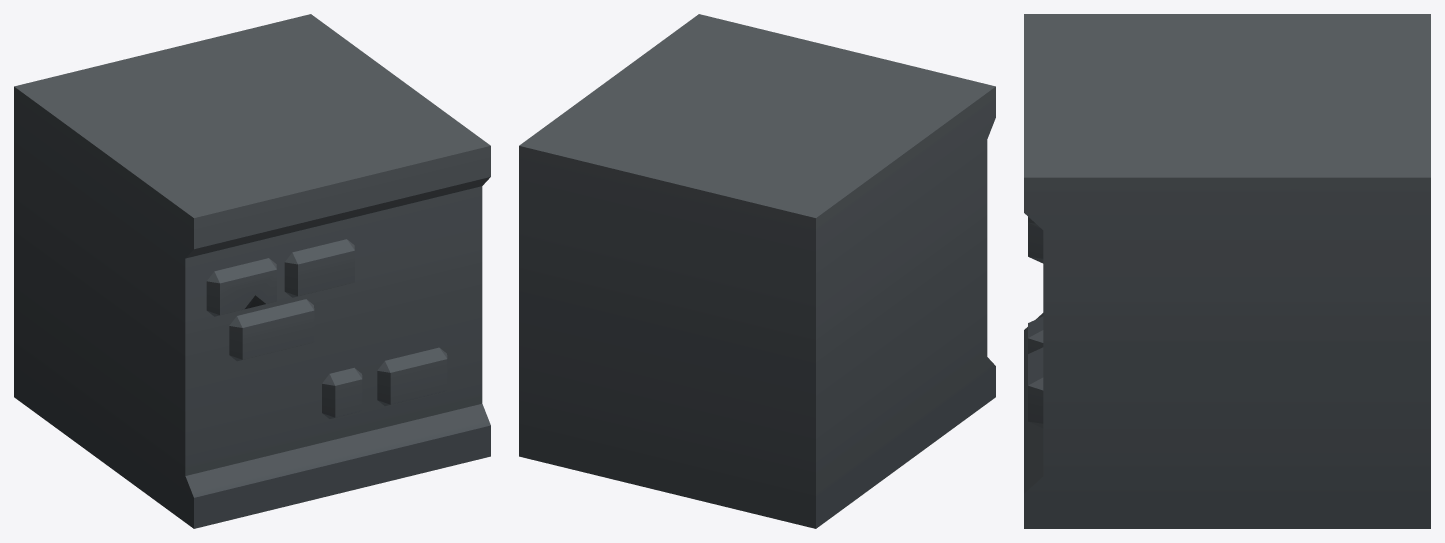
The model's file is kaykit-dungeon-remastered-floor-foundation-front-gltf.glb.
3 renders of one model, left to right at view 1: azimuth 30°, elevation 25°; view 2: azimuth 150°, elevation 25°; view 3: azimuth 270°, elevation 25°, orthographic. The views are drawn at different scales.
Visible parts, largest first — view 1: floor_foundation_front; view 2: floor_foundation_front; view 3: floor_foundation_front.
Part boxes in pixels (left/top/right/bottom): floor_foundation_front: left=14, top=14, right=490, bottom=528; floor_foundation_front: left=519, top=14, right=995, bottom=528; floor_foundation_front: left=1024, top=14, right=1430, bottom=528.
Bounding box in the file's own units: 2 × 2 × 2.1.
1 material, 1 textured.
